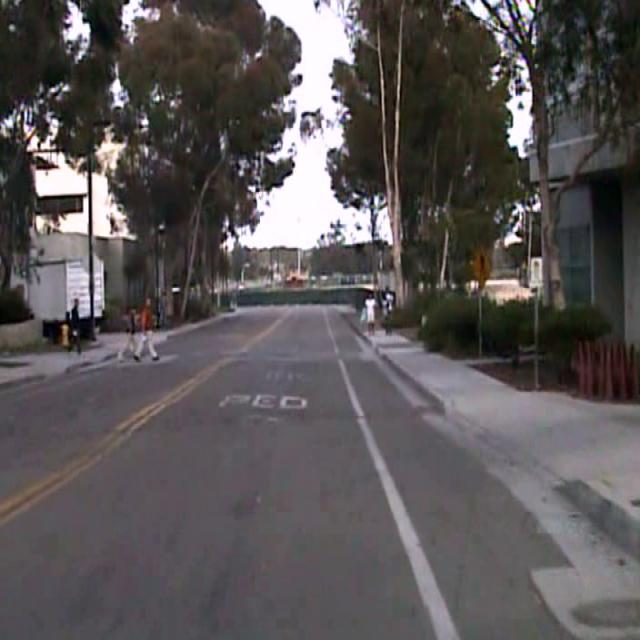pedestrianCrossing: (469, 244, 493, 284)
